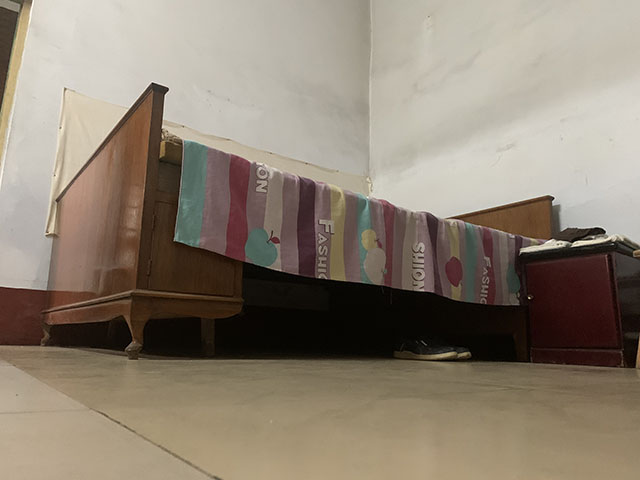bed: (39, 82, 557, 361)
cabinet: (518, 240, 639, 370)
